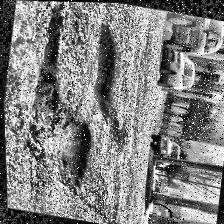pothole: (22, 12, 74, 150), (82, 22, 130, 120), (46, 116, 99, 196)
